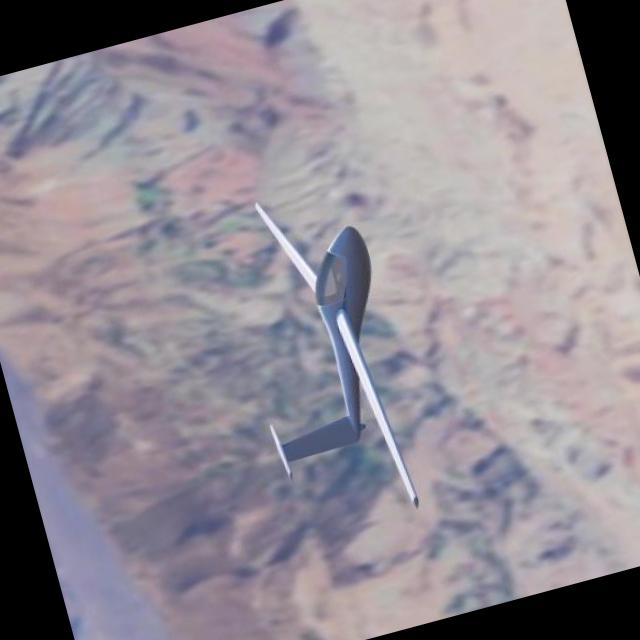UAV: (206, 176, 464, 510)
